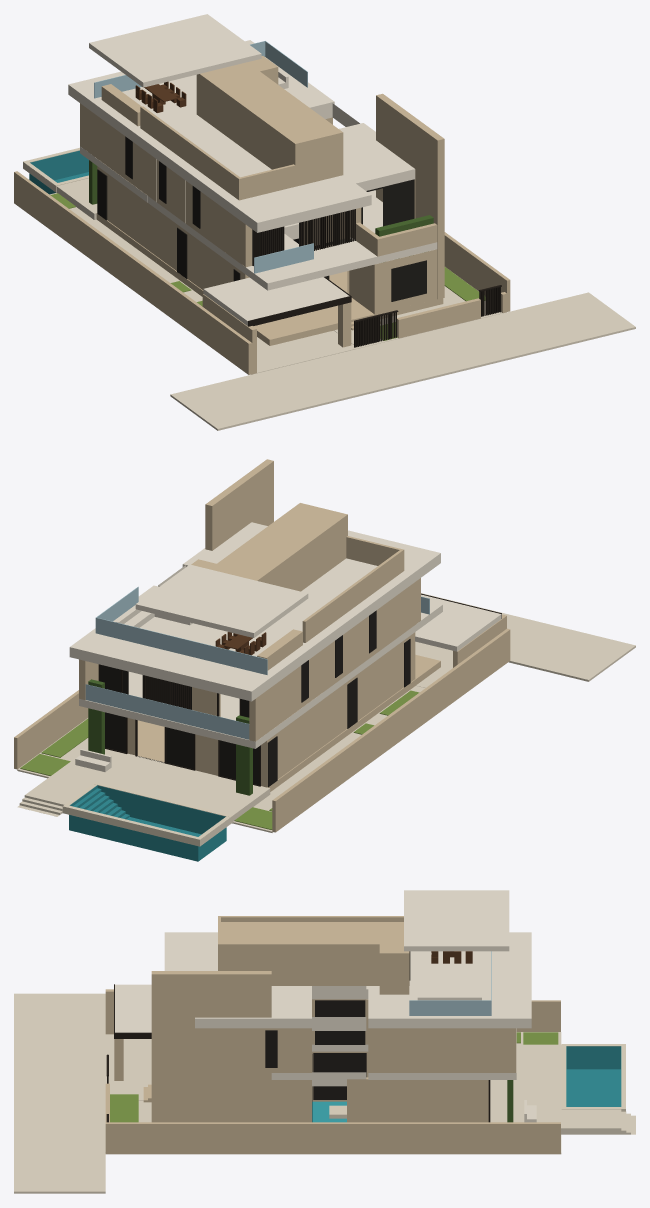
File: villa_v19.glb
3 renders of one model, top to bottom at view 1: azimuth 30°, elevation 25°; view 2: azimuth 150°, elevation 25°; view 3: azimuth 270°, elevation 25°, orthographic. The views are drawn at different scales.
Visible parts, largest first — view 1: GROUND_street_verge, RF_core, WALL_side_left, RF_canopy, ROOF_f, STONE_FIN (render-sourced, not on plan), ROOF_r, CARPORT_canopy (render-sourced, not on plan), GF_plinth, SLAB_FF_front_ext, ROOF_fr, GF_multipurpose (+30 smaller); view 2: ROOF_r, WALL_side_left, RF_canopy, RF_core, DECK_rear_strip, GROUND_street_verge, STONE_FIN (render-sourced, not on plan), ROOF_f, RF_balustrade_rear, SLAB_FF_r, FF_balcony_balustrade_glass, GF_rear (+34 smaller); view 3: GROUND_street_verge, STONE_FIN (render-sourced, not on plan), WALL_side_right, RF_core, ROOF_r, RF_canopy, FF_rear, GF_rear, FF_front, DECK_rear_strip, ROOF_fr, ROOF_f (+24 smaller).
Part boxes in pixels (box(x1,y1,x2,y2)): GROUND_street_verge: box(170, 292, 635, 430); RF_core: box(196, 62, 343, 186); WALL_side_left: box(14, 171, 252, 374); RF_canopy: box(89, 14, 261, 87); ROOF_f: box(181, 151, 371, 232); STONE_FIN (render-sourced, not on plan): box(376, 93, 444, 299); ROOF_r: box(68, 40, 334, 155); CARPORT_canopy (render-sourced, not on plan): box(203, 277, 349, 325); GF_plinth: box(96, 213, 443, 345); SLAB_FF_front_ext: box(246, 241, 437, 290); ROOF_fr: box(339, 123, 415, 190); GF_multipurpose: box(349, 249, 437, 314); ROOF_r: box(69, 585, 335, 701); WALL_side_left: box(272, 628, 510, 832); RF_canopy: box(135, 564, 308, 637); RF_core: box(209, 503, 347, 591); DECK_rear_strip: box(56, 749, 270, 821); GROUND_street_verge: box(421, 593, 635, 681); STONE_FIN (render-sourced, not on plan): box(205, 459, 273, 550); ROOF_f: box(301, 530, 440, 618); RF_balustrade_rear: box(95, 617, 267, 674); SLAB_FF_r: box(79, 671, 322, 748); FF_balcony_balustrade_glass: box(85, 684, 249, 739); GF_rear: box(127, 702, 319, 787); GROUND_street_verge: box(14, 993, 105, 1193); STONE_FIN (render-sourced, not on plan): box(151, 971, 271, 1122); WALL_side_right: box(105, 1122, 560, 1154); RF_core: box(218, 922, 409, 985); ROOF_r: box(368, 932, 531, 1028); RF_canopy: box(404, 890, 509, 951); FF_rear: box(368, 1028, 488, 1072); GF_rear: box(385, 1080, 488, 1122); FF_front: box(204, 1028, 311, 1072); DECK_rear_strip: box(490, 1044, 561, 1134); ROOF_fr: box(195, 986, 311, 1028); ROOF_f: box(164, 932, 311, 986).
Size of the model in its own units: 30.73 by 13.05 by 40.8.
